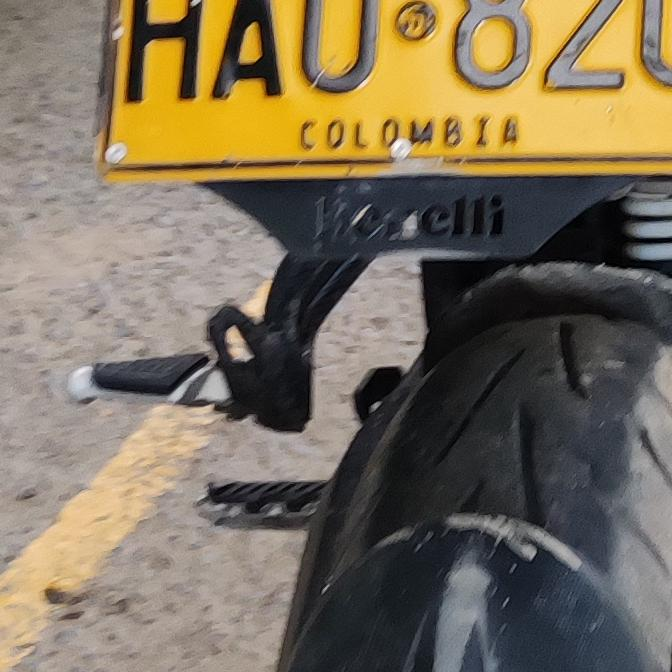plates: (90, 0, 672, 174)
